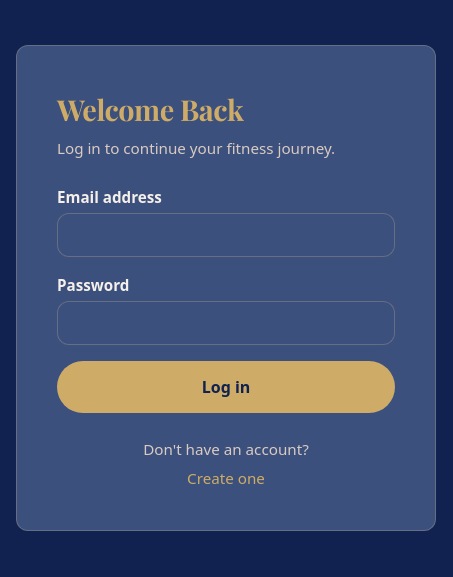
Login page › shows the error message and does not navigate on failed login
Type "test@example.com" into the field labelled "Email address" at x=226, y=235, box [57,213,395,257]
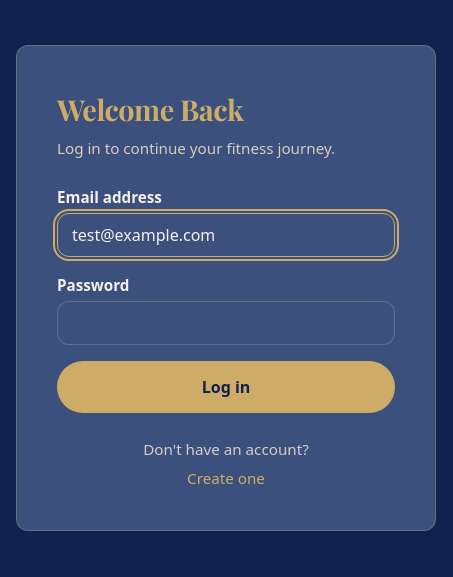
Type "wrong-password" into the password field labelled "Password" at x=226, y=323, box [57,301,395,345]
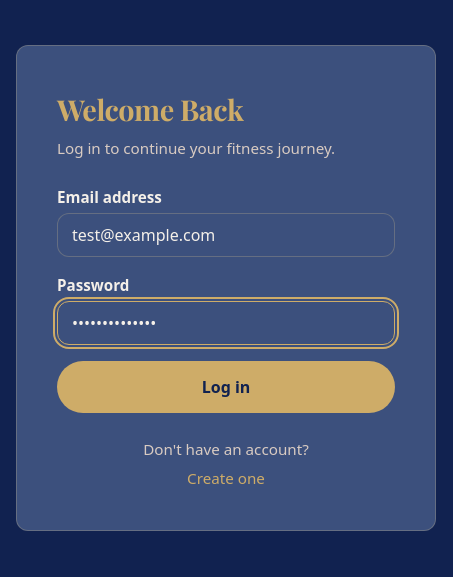
Click the button "Log in" at x=226, y=387, box [57,361,395,413]
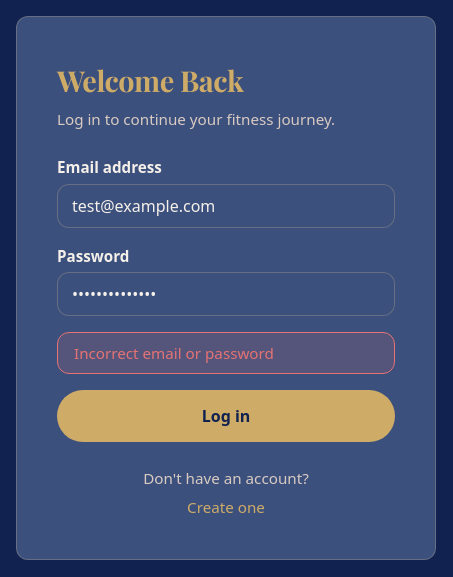
Now the text "Incorrect email or password" is shown, box [57,332,395,374]
